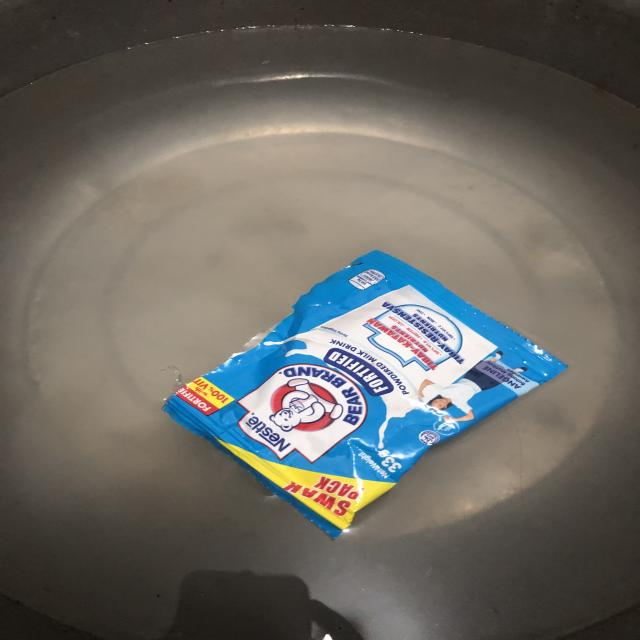Plastic Wrapper: (133, 230, 593, 551)
